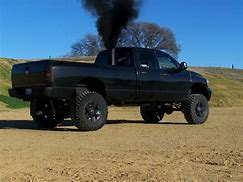smoke: (81, 1, 139, 46)
